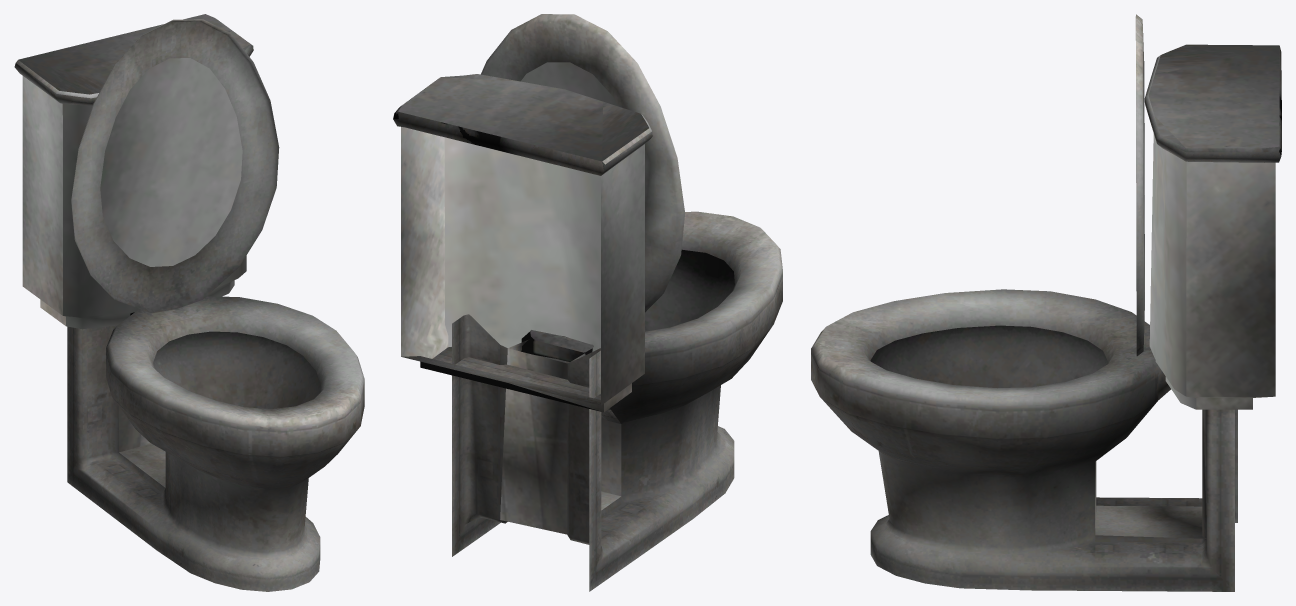
The model's file is Toilet.fbx.
3 views of the same model, side by side, from view 1: azimuth 30°, elevation 25°; view 2: azimuth 150°, elevation 25°; view 3: azimuth 270°, elevation 25° (orthographic). The views are drawn at different scales.
Visible parts, largest first — view 1: Tapa; view 2: Tapa; view 3: Tapa.
Part boxes in pixels (x1=…): Tapa: x1=14, y1=14, x2=364, y2=591; Tapa: x1=393, y1=14, x2=782, y2=591; Tapa: x1=811, y1=14, x2=1281, y2=591.
Bounding box in the file's own units: 51.46 × 113 × 90.39.
1 material, 1 textured.
